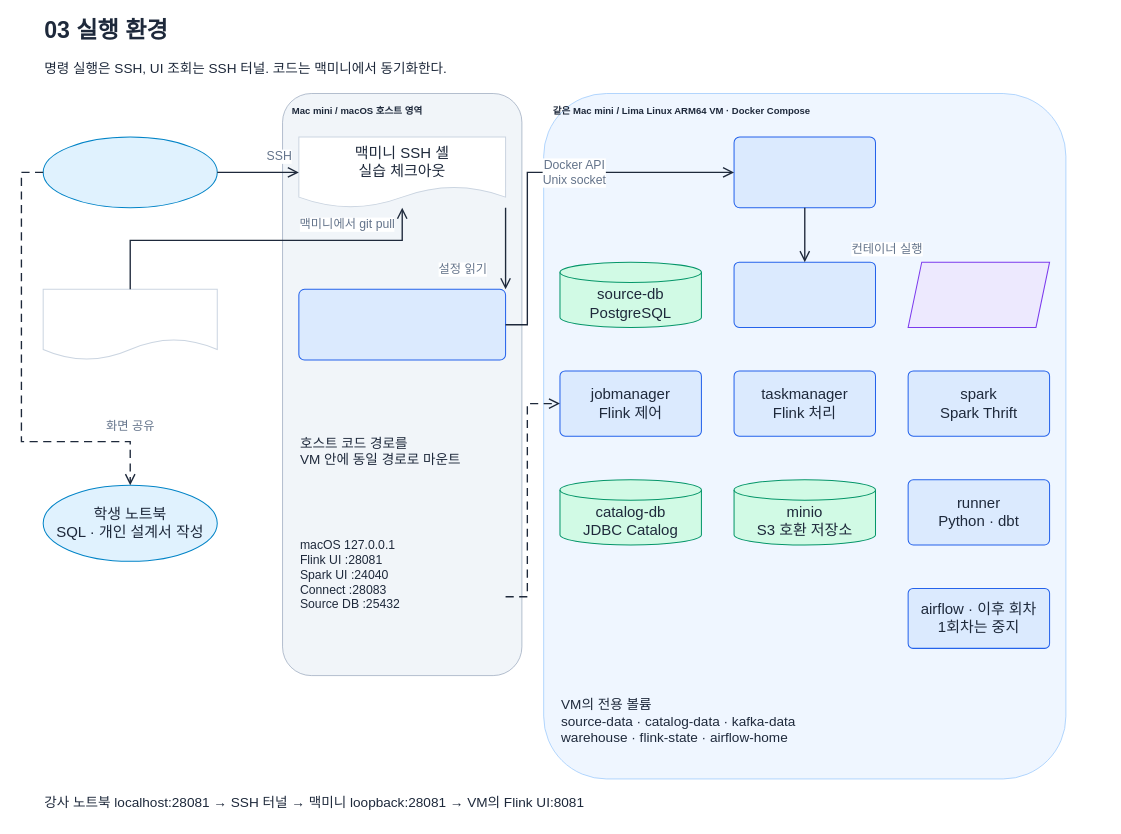
This 1121x834 diagram has some shape labels left out. The shapes that lost their labels are listed below. From the top down, each one's centre as x and y in pixels, then its label:
At pixel 129 172: "강사 노트북 명령 실행 · 화면 공유".
At pixel 804 172: "Docker Engine Linux ARM64".
At pixel 804 294: "connect Debezium".
At pixel 978 294: "kafka KRaft broker".
At pixel 129 324: "GitHub 저장소 실습 코드 · 자료".
At pixel 402 324: "Docker CLI / Compose 전용 Docker 소켓 사용".
